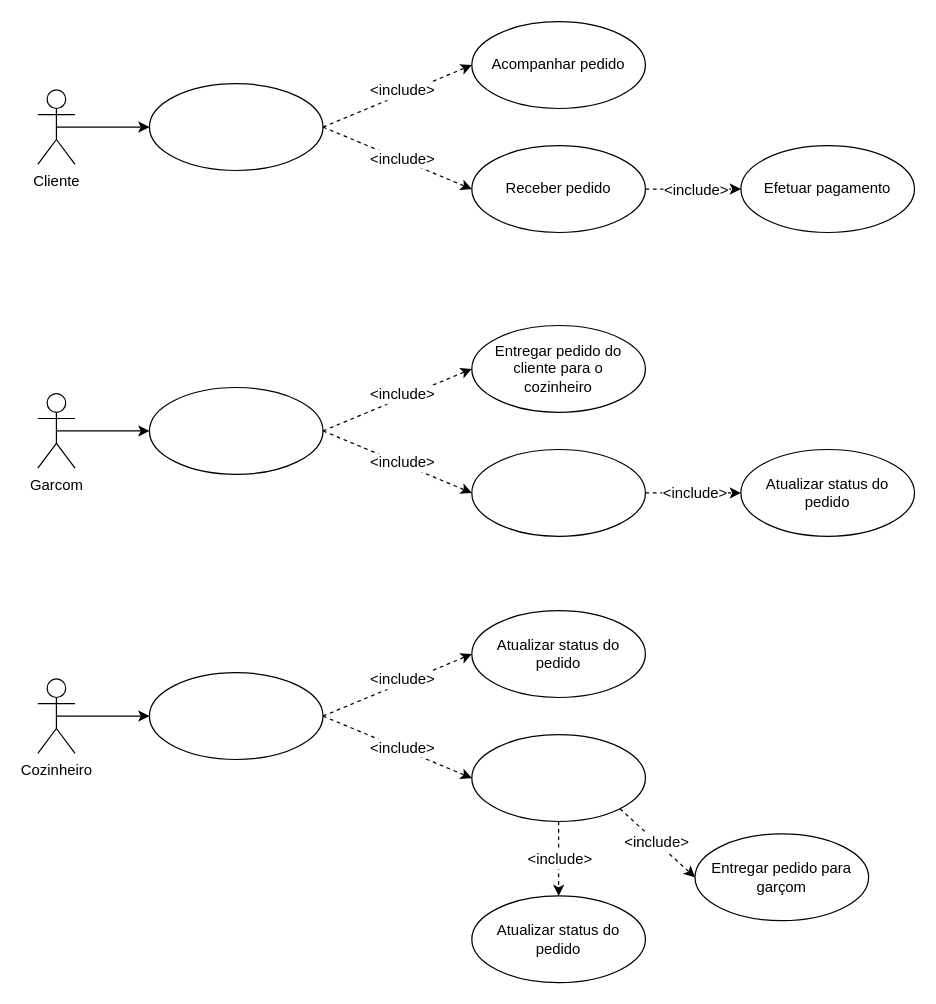
Some shapes in this 936 by 1004 pixel diagram are drawn without their labels. Each missing label, with the box of its shape:
Anotar pedido do cliente: (148, 386, 323, 474)
Entregar pedido para o cliente: (471, 448, 645, 536)
Preparar pedido do cliente: (471, 733, 645, 822)
Realizar Pedido: (148, 82, 323, 170)
Receber pedido do cliente: (148, 671, 323, 760)
